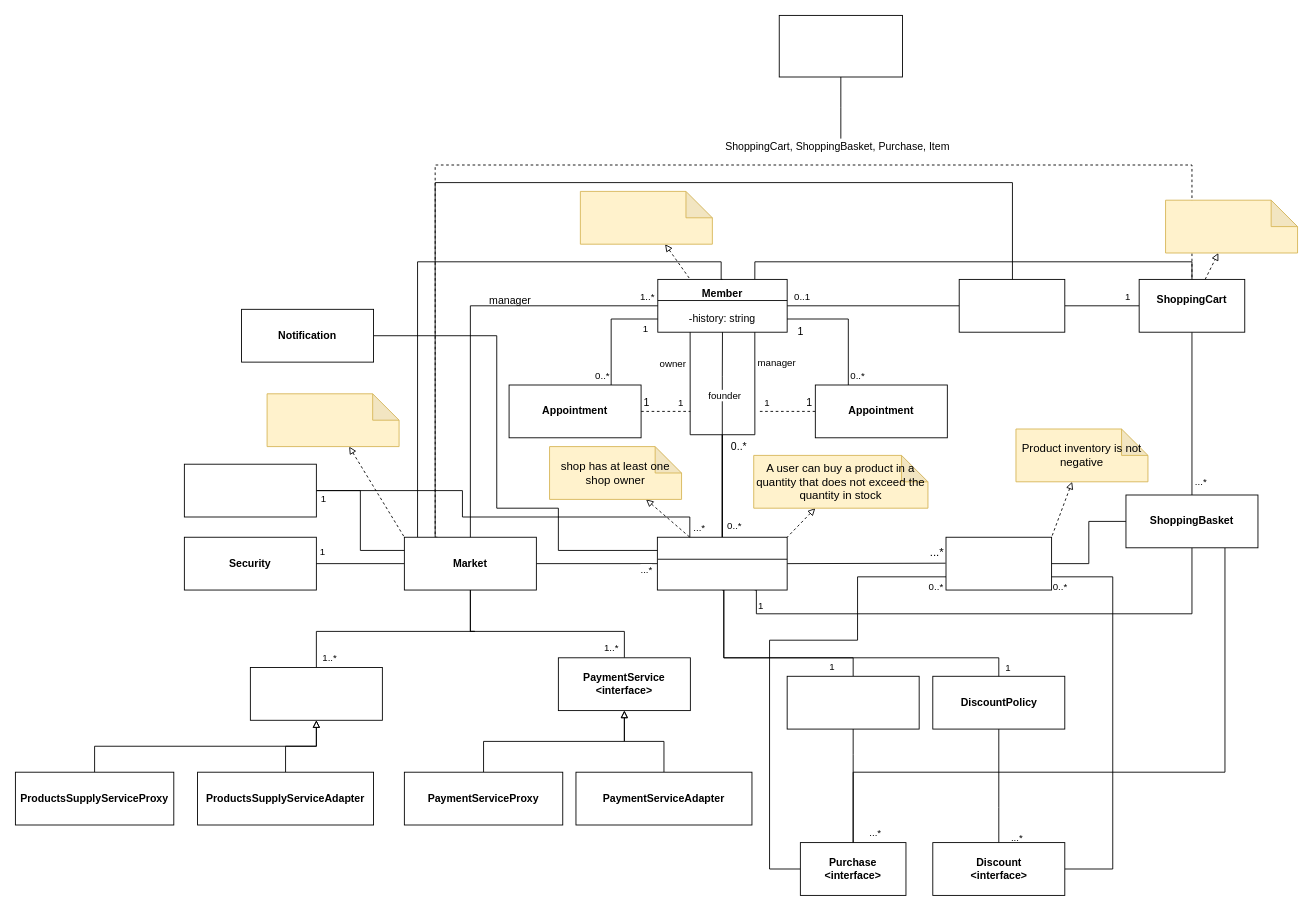
This 1313x911 diagram has some shape labels left out. Each missing label, with the centre of its shape:
<<Interface>> IHistory + createText(): string: [840,46]
buyer has at most one shopping basket per shop: [1231,226]
ClosedShopHistory: [249,490]
integrity rules: [332,420]
item: [998,563]
ProductsSupplyService <interface>: [315,693]
PurchasePolicy: [852,702]
Shop - purchaseHistory: string: [721,563]
unique name, enforced by user controller: [645,217]
Visitor: [1011,305]
